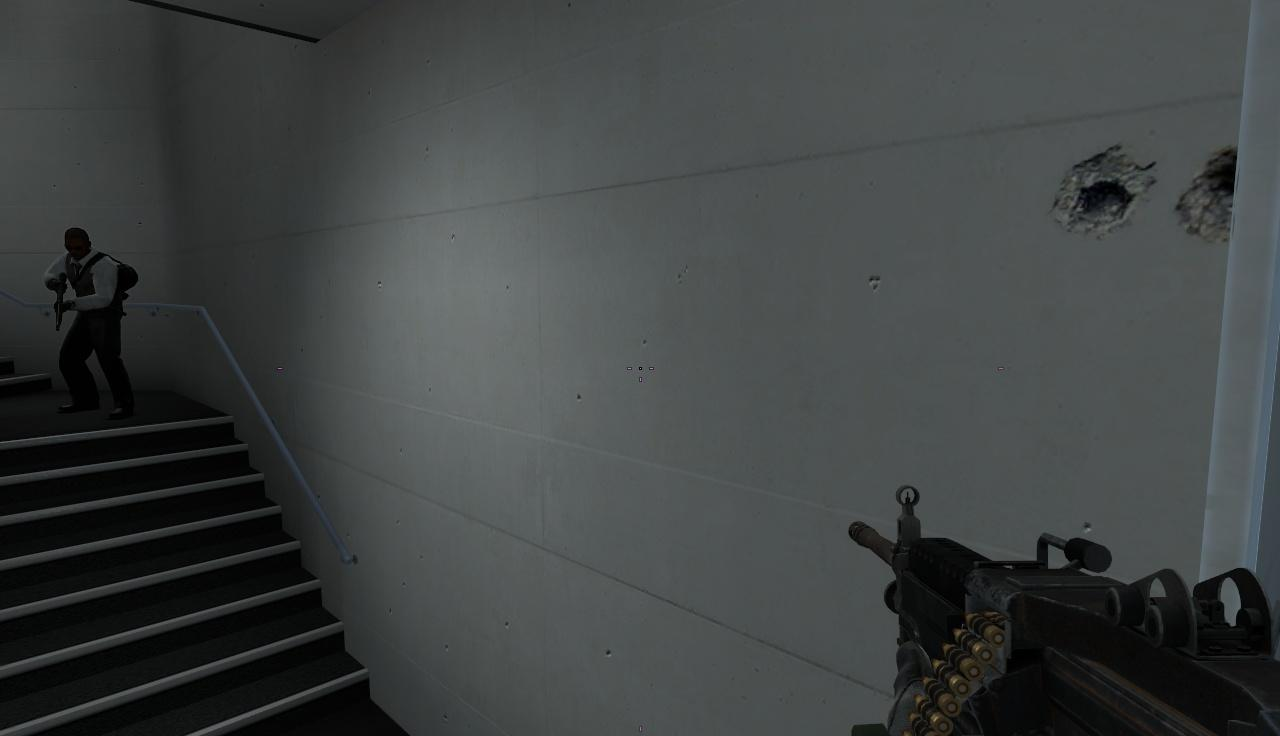rifle: (843, 481, 1280, 736)
tt: (44, 226, 130, 418), (63, 228, 90, 259)
